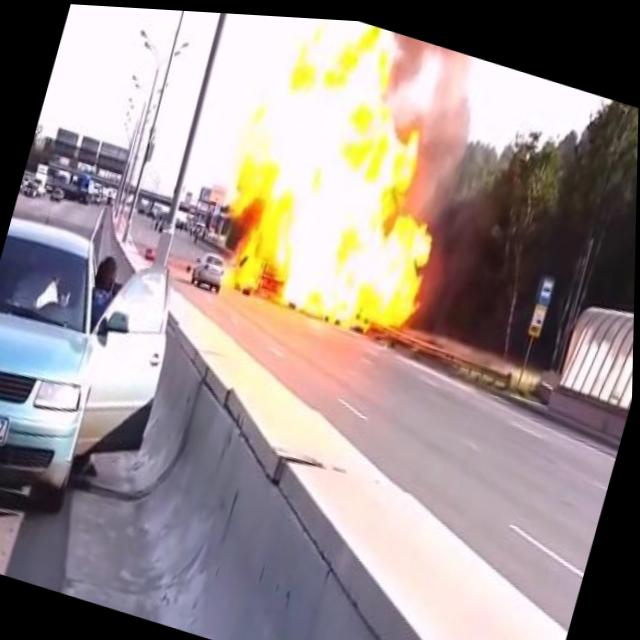fire: (208, 10, 495, 354)
